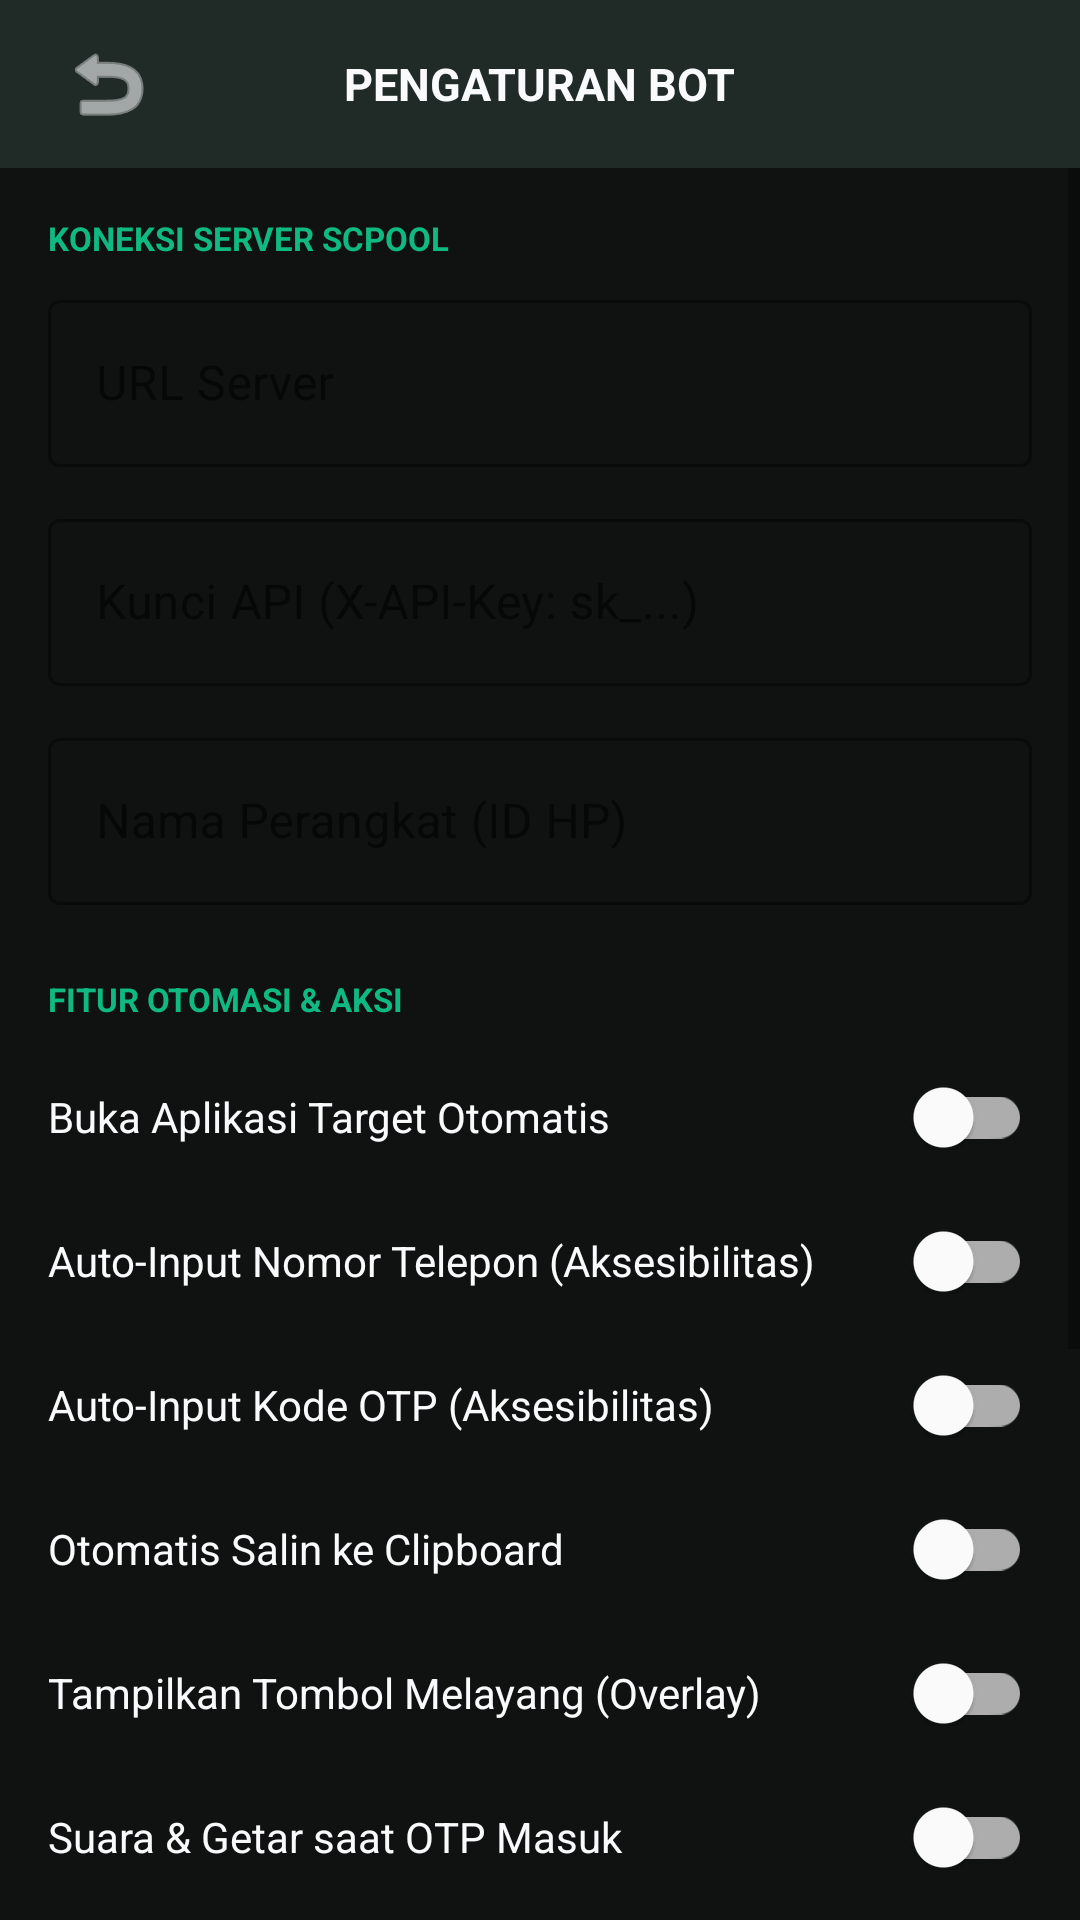

Icon bounding boxes for this 1080*1920 phone screenshot, format (x1, y1, x2, y2):
Kembali: (75, 53, 144, 116)
